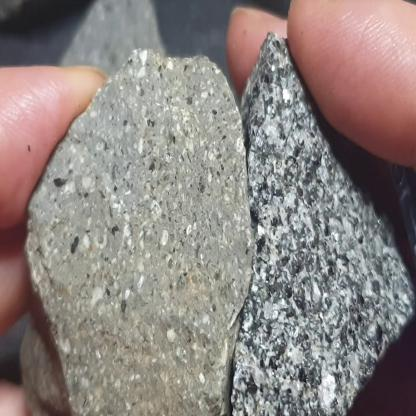Igneous_Diorite: (229, 25, 416, 416)
